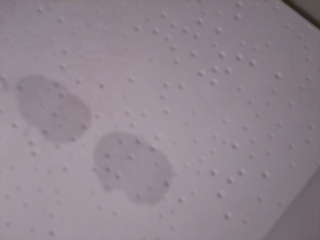Water_detected: (34, 88, 154, 189)
